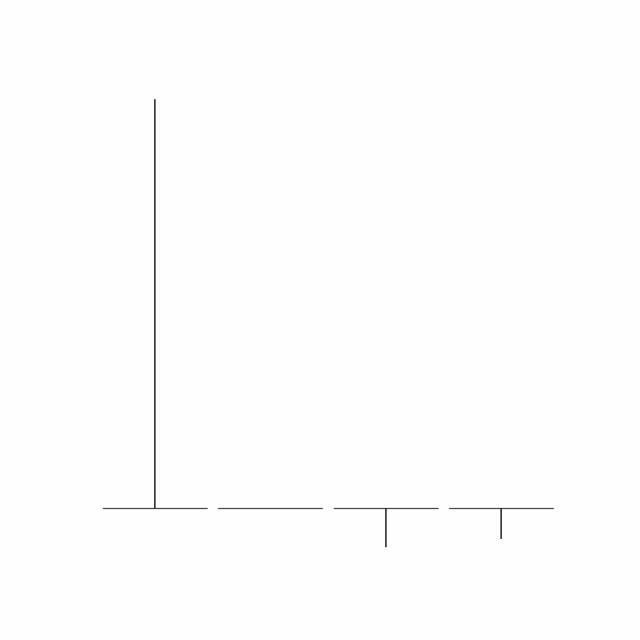Hammer: (329, 507, 445, 549)
